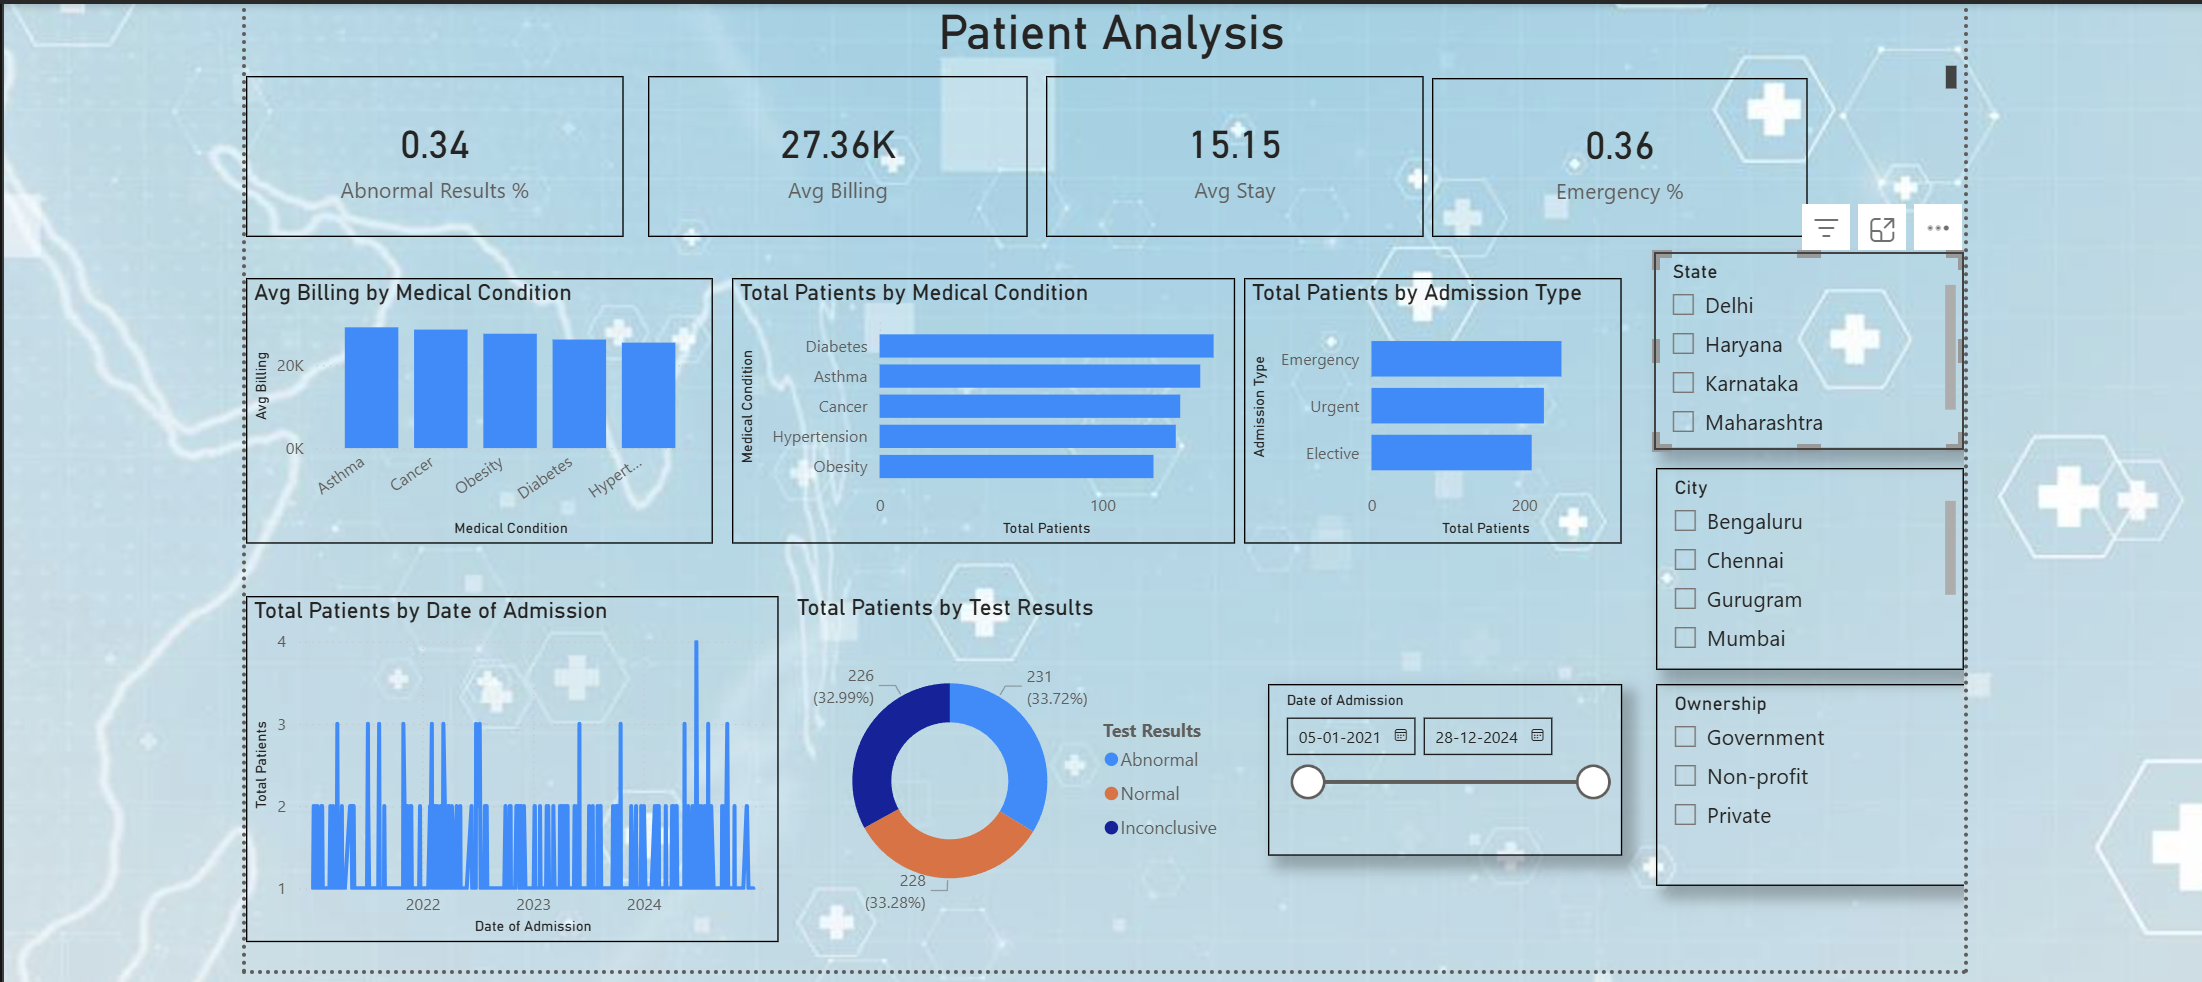

What the dashboard file says about the page in this screenshot:
{"tool":"powerbi","page":{"name":"Patient Analysis","canvas":[1280,720],"ordinal":2},"visuals":[{"type":"textbox","title":"Patient Analysis","box":[10.6,0,1269.4,68.2],"z":0},{"type":"card","fields":{"Values":["1_Patient_Dataset.Emergency %"]},"box":[884.4,55.4,280,118.7],"z":1000},{"type":"card","fields":{"Values":["1_Patient_Dataset.Abnormal Results %"]},"box":[0,53.8,281.6,120.2],"z":2000},{"type":"card","fields":{"Values":["1_Patient_Dataset.Avg Billing"]},"box":[299,53.8,283.2,120.2],"z":3000},{"type":"card","fields":{"Values":["2_Hospital_Info.Avg Stay"]},"box":[596.5,53.8,281.6,120.2],"z":4000},{"type":"slicer","fields":{"Values":["1_Patient_Dataset.Date of Admission"]},"box":[761,506.3,264.2,128.2],"z":5000},{"type":"clusteredBarChart","fields":{"Category":["1_Patient_Dataset.Admission Type"],"Y":["2_Hospital_Info.Total Patients"]},"box":[743.6,204.1,281.6,197.8],"z":6000},{"type":"clusteredBarChart","fields":{"Category":["1_Patient_Dataset.Medical Condition"],"Y":["2_Hospital_Info.Total Patients"]},"box":[362.3,204.1,375,197.8],"z":7000},{"type":"columnChart","fields":{"Category":["1_Patient_Dataset.Medical Condition"],"Y":["1_Patient_Dataset.Avg Billing"]},"box":[0,204.1,348.1,197.8],"z":8000},{"type":"donutChart","fields":{"Category":["1_Patient_Dataset.Test Results"],"Y":["2_Hospital_Info.Total Patients"]},"box":[405,439.9,332.3,259.5],"z":9000},{"type":"lineChart","fields":{"Category":["1_Patient_Dataset.Date of Admission"],"Y":["2_Hospital_Info.Total Patients"]},"box":[0,441.4,397.1,257.9],"z":10000},{"type":"slicer","fields":{"Values":["2_Hospital_Info.City"]},"box":[1050.6,346.5,229.4,150.3],"z":10001},{"type":"slicer","fields":{"Values":["2_Hospital_Info.State"]},"box":[1049,185.1,231,147.1],"z":10002},{"type":"slicer","fields":{"Values":["2_Hospital_Info.Ownership"]},"box":[1050.6,506.3,231,150.3],"z":10003}]}

Visuals, with their boxes on the page's 1280x720 design canvas (x1, y1, x2, y2). These are canvas units, not pixel positions in the 2202x982 screenshot, which may show the page scaled, cropped or inside an application window:
"Patient Analysis" textbox: 11/0/1280/68
card - 1_Patient_Dataset.Emergency %: 884/55/1164/174
card - 1_Patient_Dataset.Abnormal Results %: 0/54/282/174
card - 1_Patient_Dataset.Avg Billing: 299/54/582/174
card - 2_Hospital_Info.Avg Stay: 596/54/878/174
slicer - 1_Patient_Dataset.Date of Admission: 761/506/1025/634
clusteredBarChart - 1_Patient_Dataset.Admission Type x 2_Hospital_Info.Total Patients: 744/204/1025/402
clusteredBarChart - 1_Patient_Dataset.Medical Condition x 2_Hospital_Info.Total Patients: 362/204/737/402
columnChart - 1_Patient_Dataset.Medical Condition x 1_Patient_Dataset.Avg Billing: 0/204/348/402
donutChart - 1_Patient_Dataset.Test Results x 2_Hospital_Info.Total Patients: 405/440/737/699
lineChart - 1_Patient_Dataset.Date of Admission x 2_Hospital_Info.Total Patients: 0/441/397/699
slicer - 2_Hospital_Info.City: 1051/346/1280/497
slicer - 2_Hospital_Info.State: 1049/185/1280/332
slicer - 2_Hospital_Info.Ownership: 1051/506/1282/657
